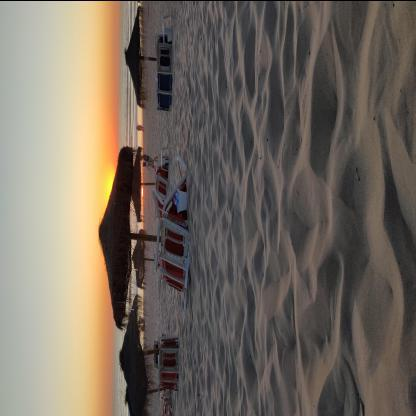plastik: (174, 198, 180, 208), (176, 193, 180, 202)
